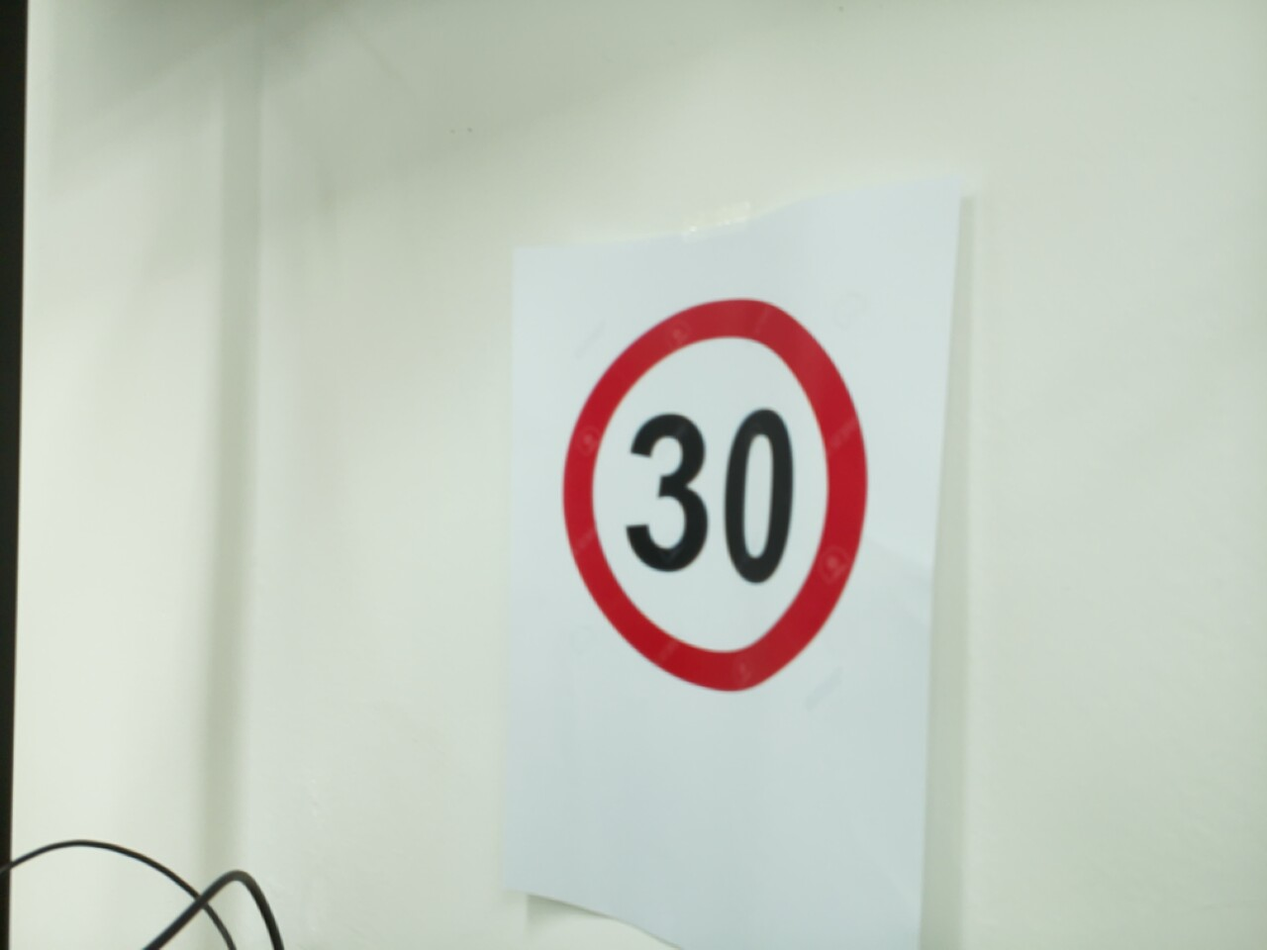speed_30: (553, 287, 878, 704)
